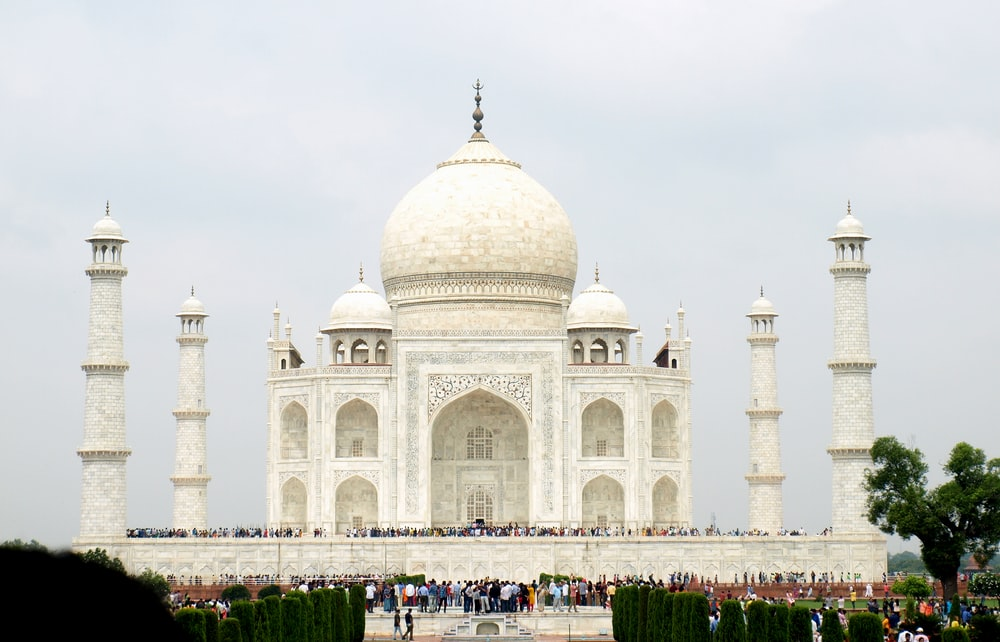Mosque: (60, 70, 900, 559)
